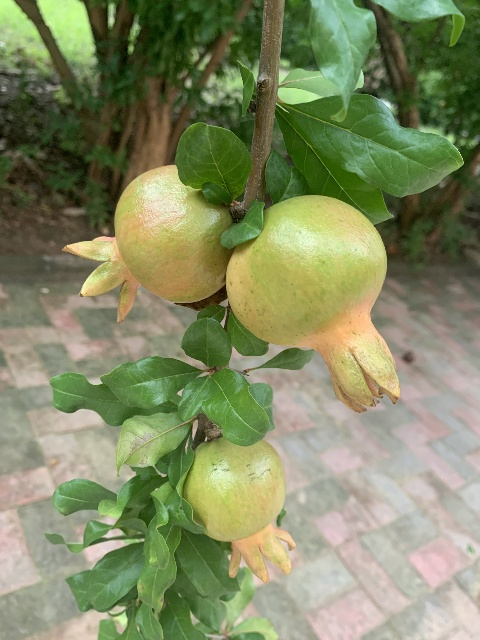mid-growth: (225, 193, 403, 413), (61, 164, 233, 322), (181, 436, 296, 583)
